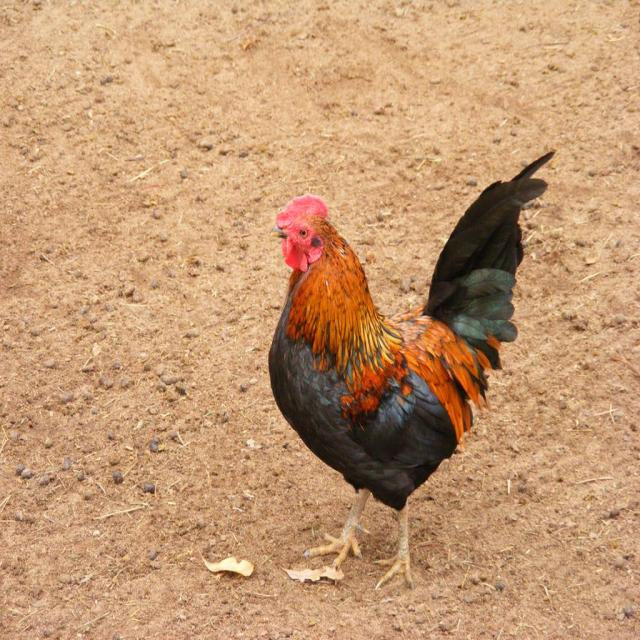Chicken: (277, 164, 524, 613)
